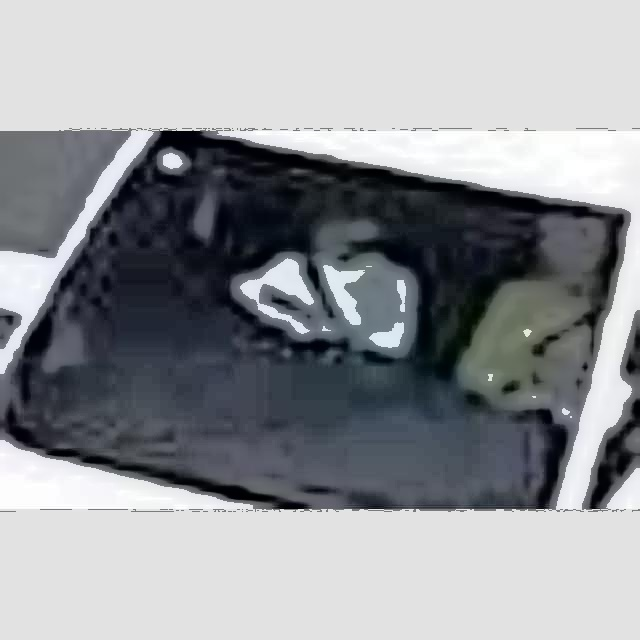pakai: (465, 218, 611, 407), (240, 211, 400, 364)
